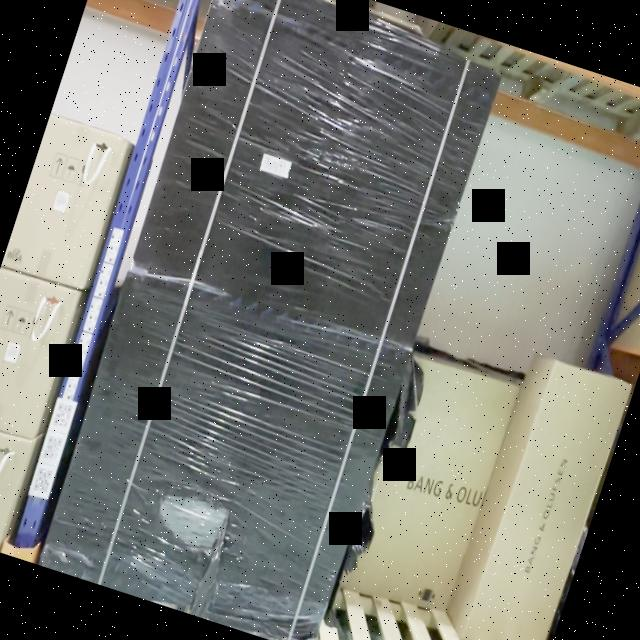box: (466, 359, 629, 640)
